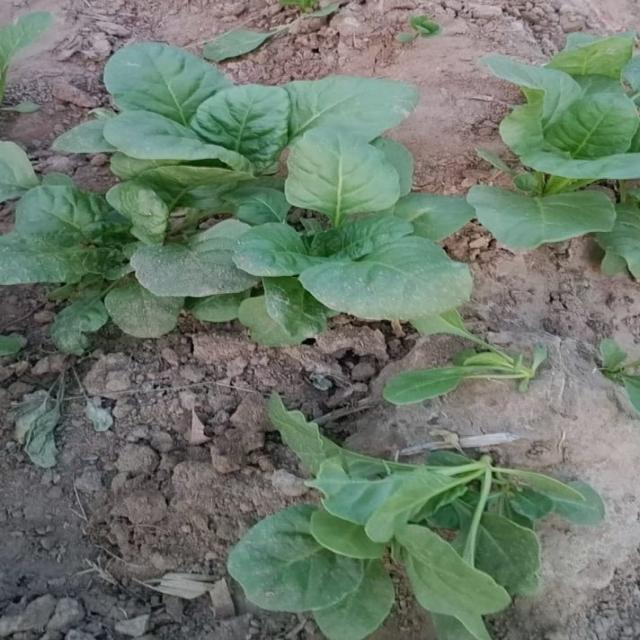plant: (1, 33, 640, 403), (228, 401, 604, 640)
